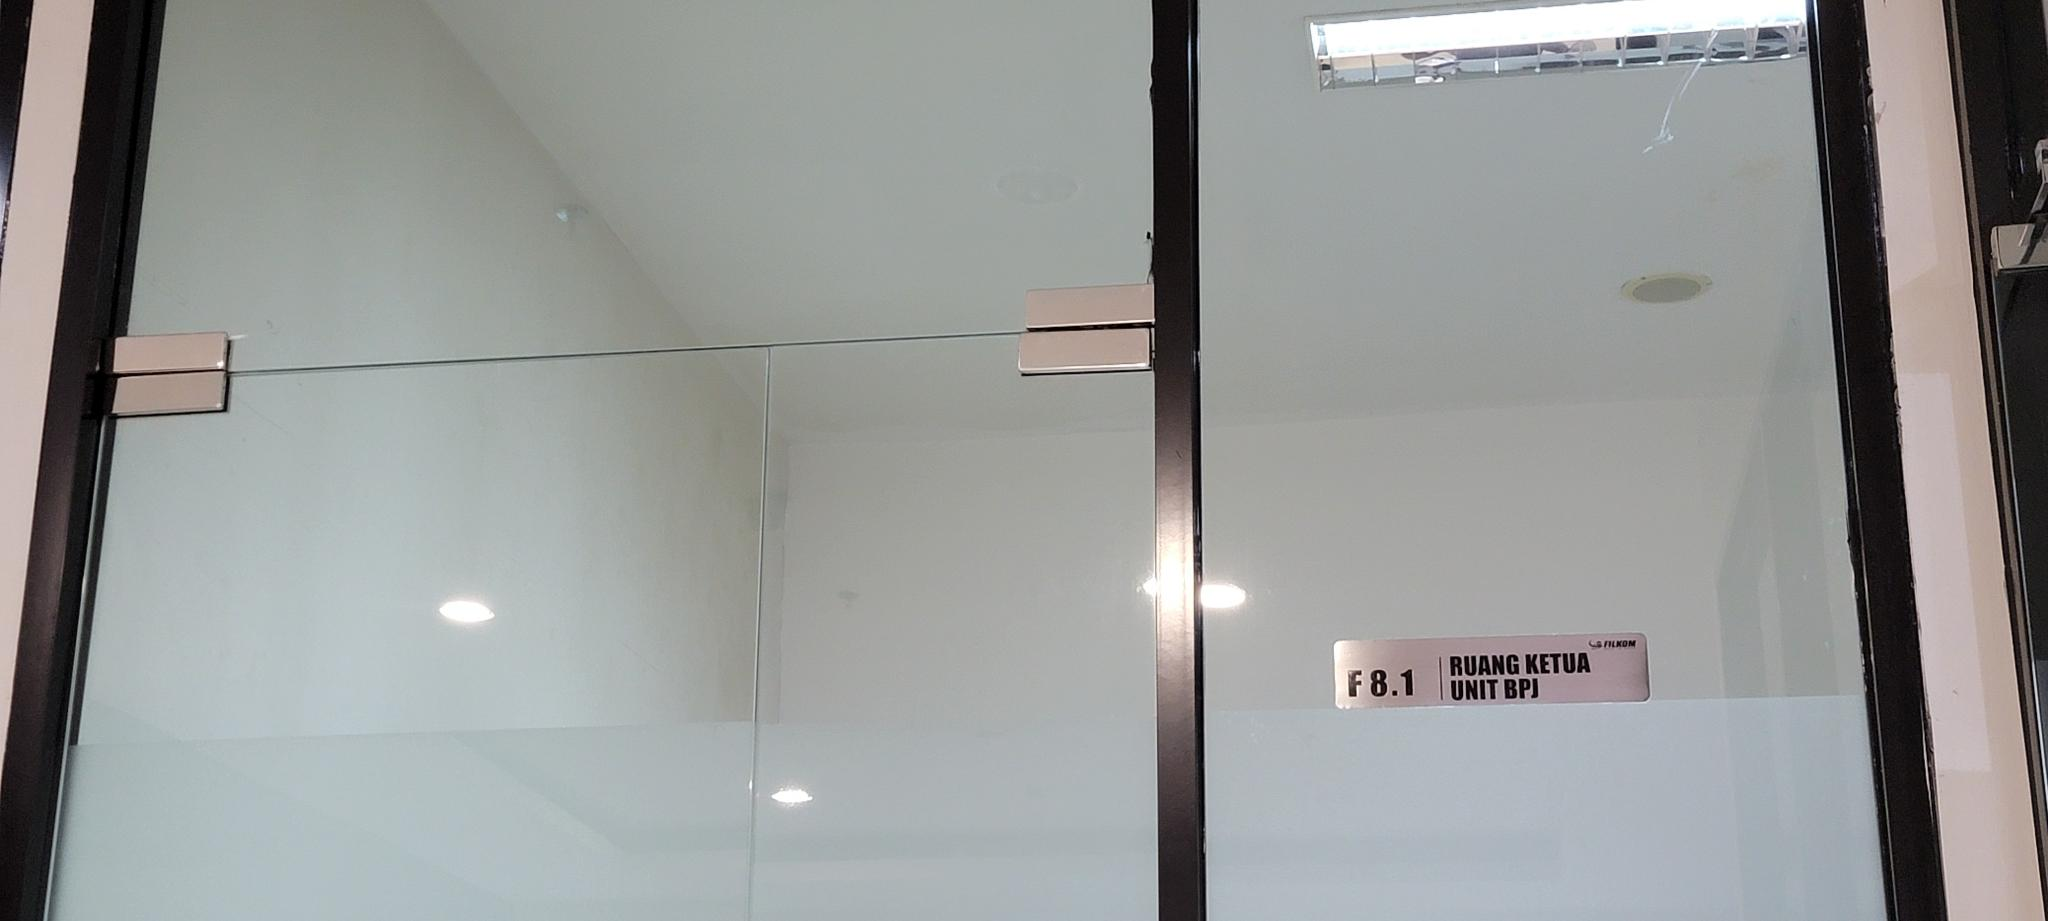plate: (1332, 631, 1654, 717)
